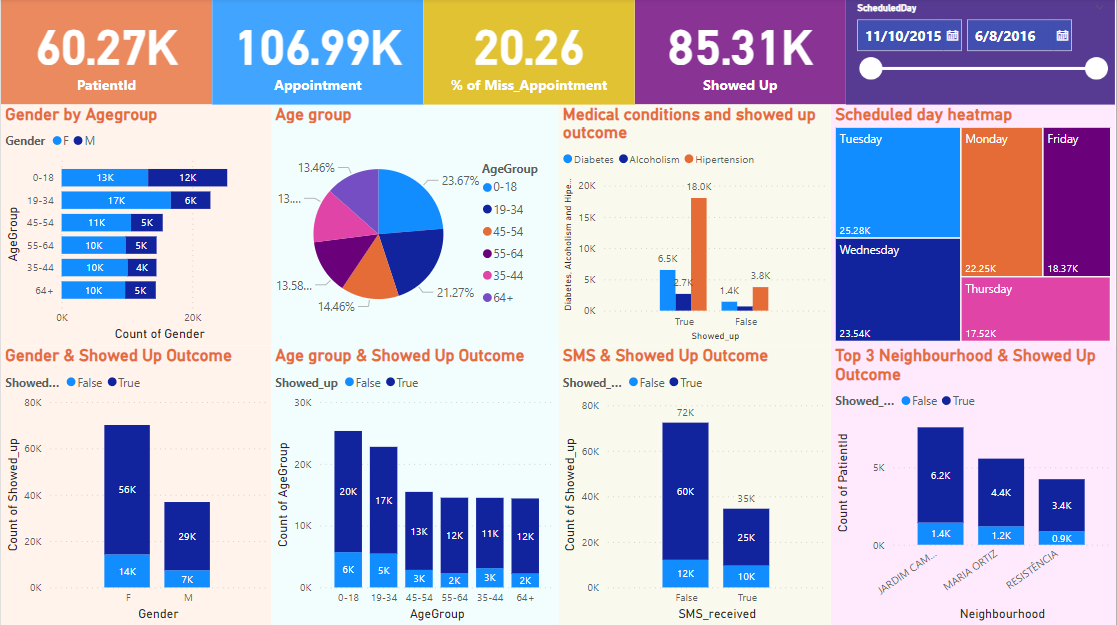

Layout of this report page (visuals, bound fields, positions):
{"tool":"powerbi","page":{"name":"Page 1","canvas":[1280,720],"ordinal":0},"visuals":[{"type":"card","fields":{"Values":["healthcare_noshows.PatientId"]},"box":[0,0,242.6,122],"z":0},{"type":"pieChart","title":"Age group","fields":{"Category":["healthcare_noshows.AgeGroup"],"Y":["healthcare_noshows.AgeGroup"]},"box":[310,122,330.1,277],"z":1000},{"type":"barChart","title":"Gender by Agegroup","fields":{"Y":["healthcare_noshows.Gender"],"Category":["healthcare_noshows.AgeGroup"],"Series":["healthcare_noshows.Gender"]},"box":[0,122,310,277],"z":2000},{"type":"card","fields":{"Values":["healthcare_noshows.ShowedUpCount"]},"box":[727.7,0,242.6,122],"z":3000},{"type":"columnChart","title":"Gender & Showed Up Outcome","fields":{"Category":["healthcare_noshows.Gender"],"Series":["healthcare_noshows.Showed_up"],"Y":["healthcare_noshows.Showed_up"]},"box":[0,399,310,321.5],"z":4000},{"type":"treemap","title":"Scheduled day heatmap","fields":{"Group":["healthcare_noshows.DayOfWeek"],"Values":["healthcare_noshows.PatientId"]},"box":[953.5,122.2,326.4,277.5],"z":5000},{"type":"columnChart","title":"Top 3 Neighbourhood  & Showed Up Outcome","fields":{"Category":["healthcare_noshows.Neighbourhood"],"Y":["healthcare_noshows.PatientId"],"Series":["healthcare_noshows.Showed_up"]},"box":[953,399,327.2,321.5],"z":6000},{"type":"slicer","fields":{"Values":["healthcare_noshows.ScheduledDay"]},"box":[970.3,0,308.6,122],"z":7000},{"type":"clusteredColumnChart","title":" Medical conditions and showed up outcome","fields":{"Category":["healthcare_noshows.Showed_up"],"Y":["healthcare_noshows.1CountTRUE_Diabetes","healthcare_noshows.1CounttrueAlcoholism","healthcare_noshows.1CountTRUE_Hipertension"]},"box":[640.1,122,312.9,277],"z":8000},{"type":"columnChart","title":"SMS & Showed Up Outcome","fields":{"Category":["healthcare_noshows.SMS_received"],"Y":["healthcare_noshows.Showed_up"],"Series":["healthcare_noshows.Showed_up"]},"box":[640.1,399,312.9,321.5],"z":9000},{"type":"card","fields":{"Values":["healthcare_noshows.AppointmentID"]},"box":[242.6,0,242.6,122],"z":10000},{"type":"card","fields":{"Values":["healthcare_noshows.1RateOfMissedAppointments"]},"box":[485.1,0,242.6,122],"z":11000},{"type":"columnChart","title":"Age group & Showed Up Outcome","fields":{"Category":["healthcare_noshows.AgeGroup"],"Y":["healthcare_noshows.AgeGroup"],"Series":["healthcare_noshows.Showed_up"]},"box":[310,399,330.1,321.5],"z":12000}]}

Visuals, with their boxes in screenshot pixels (x1, y1, x2, y2), scaled from the page's 1280x720 canvas onto the 1117x625 screenshot:
card - healthcare_noshows.PatientId: Rect(0, 0, 212, 106)
"Age group" pieChart: Rect(271, 106, 559, 346)
"Gender by Agegroup" barChart: Rect(0, 106, 271, 346)
card - healthcare_noshows.ShowedUpCount: Rect(635, 0, 847, 106)
"Gender & Showed Up Outcome" columnChart: Rect(0, 346, 271, 624)
"Scheduled day heatmap" treemap: Rect(832, 106, 1116, 347)
"Top 3 Neighbourhood  & Showed Up Outcome" columnChart: Rect(832, 346, 1116, 624)
slicer - healthcare_noshows.ScheduledDay: Rect(847, 0, 1116, 106)
" Medical conditions and showed up outcome" clusteredColumnChart: Rect(559, 106, 832, 346)
"SMS & Showed Up Outcome" columnChart: Rect(559, 346, 832, 624)
card - healthcare_noshows.AppointmentID: Rect(212, 0, 423, 106)
card - healthcare_noshows.1RateOfMissedAppointments: Rect(423, 0, 635, 106)
"Age group & Showed Up Outcome" columnChart: Rect(271, 346, 559, 624)
